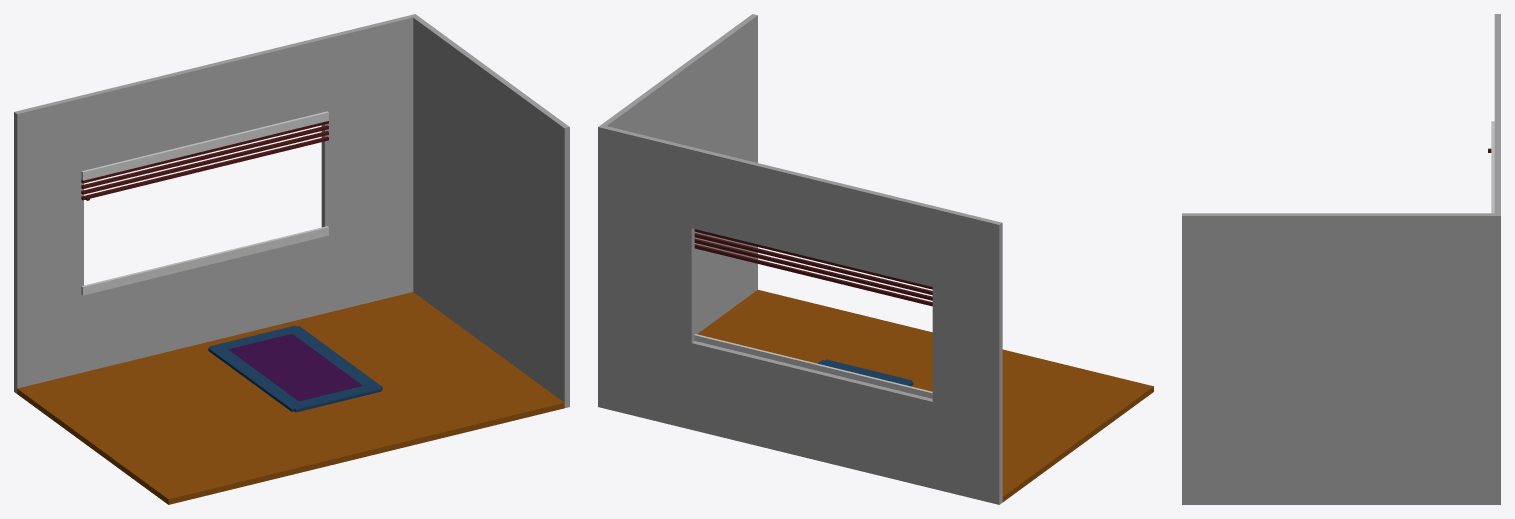
Rendered from Room.obj.
3 views of the same model, side by side, from view 1: azimuth 30°, elevation 25°; view 2: azimuth 150°, elevation 25°; view 3: azimuth 270°, elevation 25° (orthographic). The views are drawn at different scales.
Size of the model in its own units: 15 by 10 by 10.
Materials: 1 (1 with a texture image).
